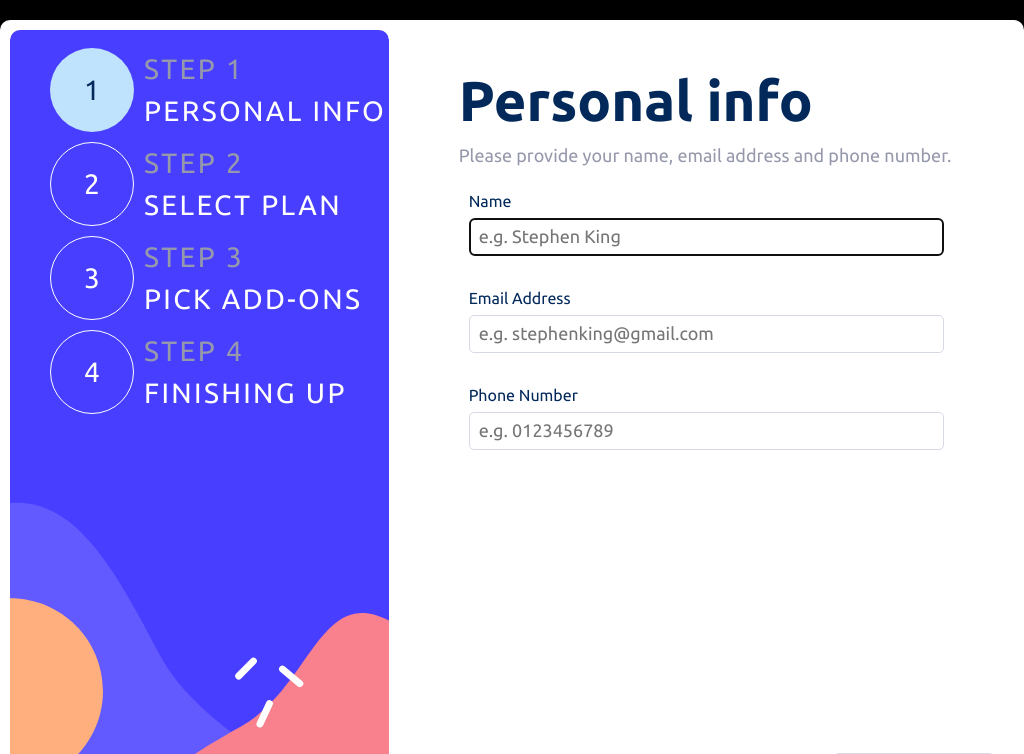
Test: page container suite › if fwd button is enabled and we click we go to select plan step
Type "Stephen King" into the field with placeholder "e.g. Stephen King" at (706, 237), box x1=469 y1=218 x2=944 y2=256
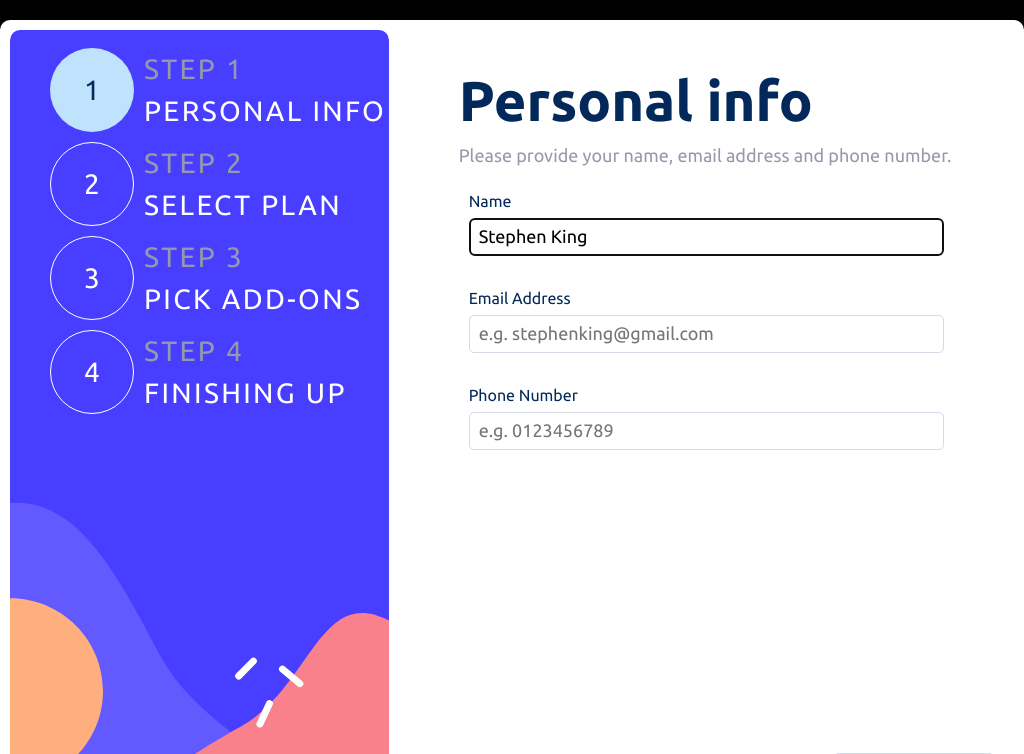
Type "stephenking@gmail.com" into the field with placeholder "e.g. stephenking@gmail.com" at (706, 334), box x1=469 y1=315 x2=944 y2=353
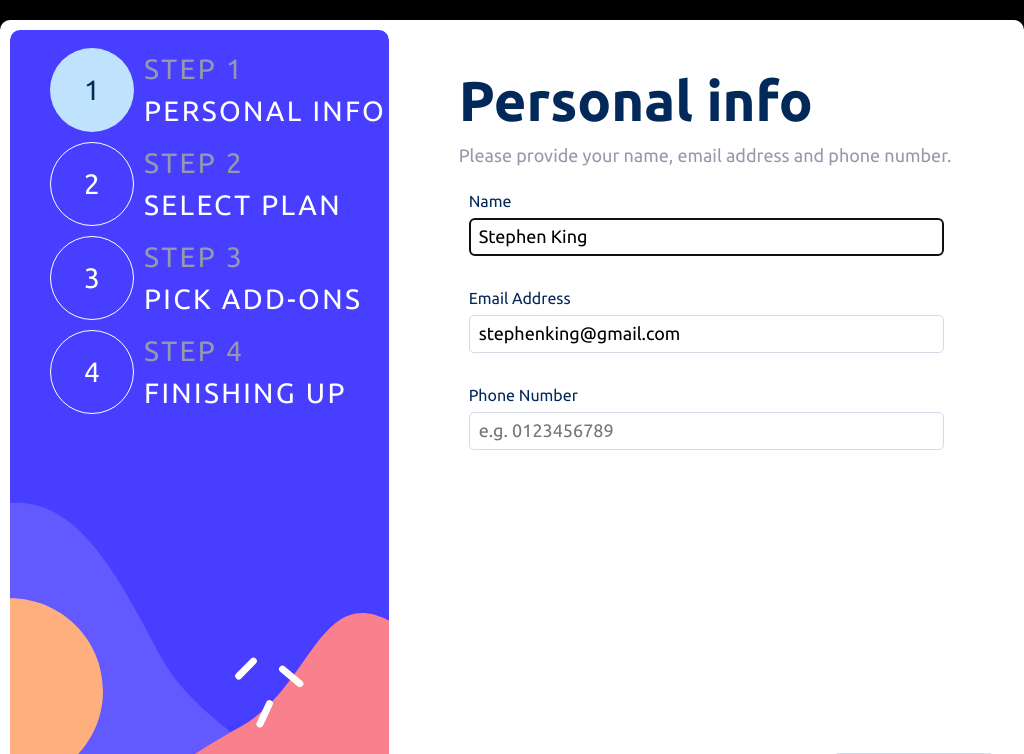
Type "0123456789" into the field with placeholder "e.g. 0123456789" at (706, 431), box x1=469 y1=412 x2=944 y2=450
(page scrolled)
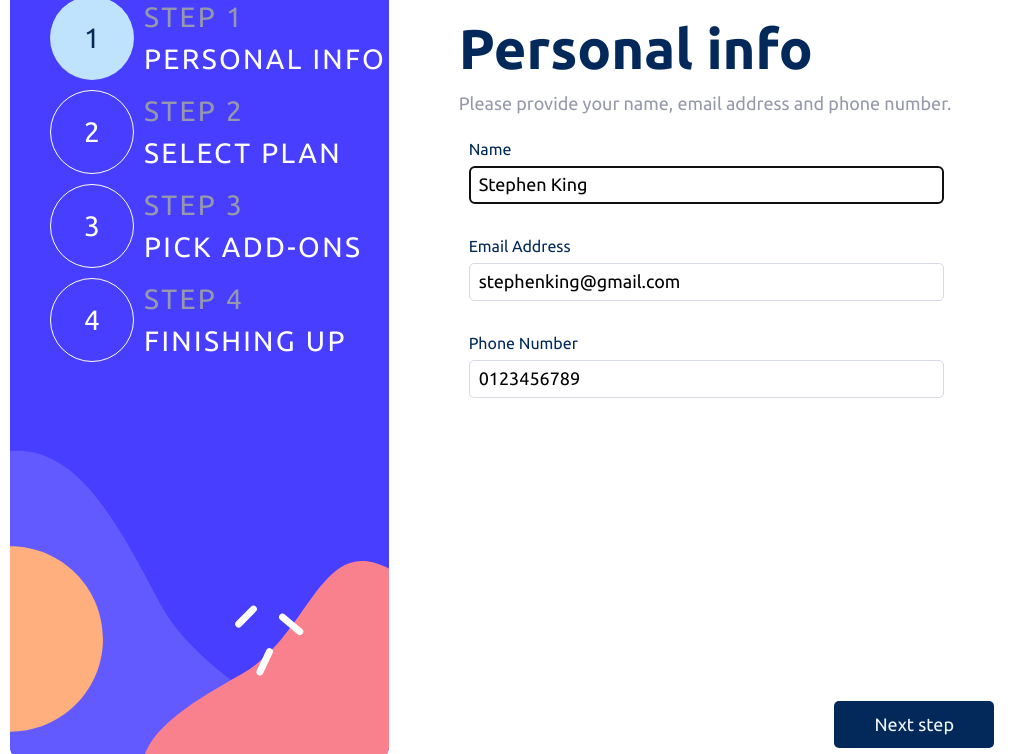
Click the button "Next step" at (914, 724), box x1=834 y1=701 x2=994 y2=748
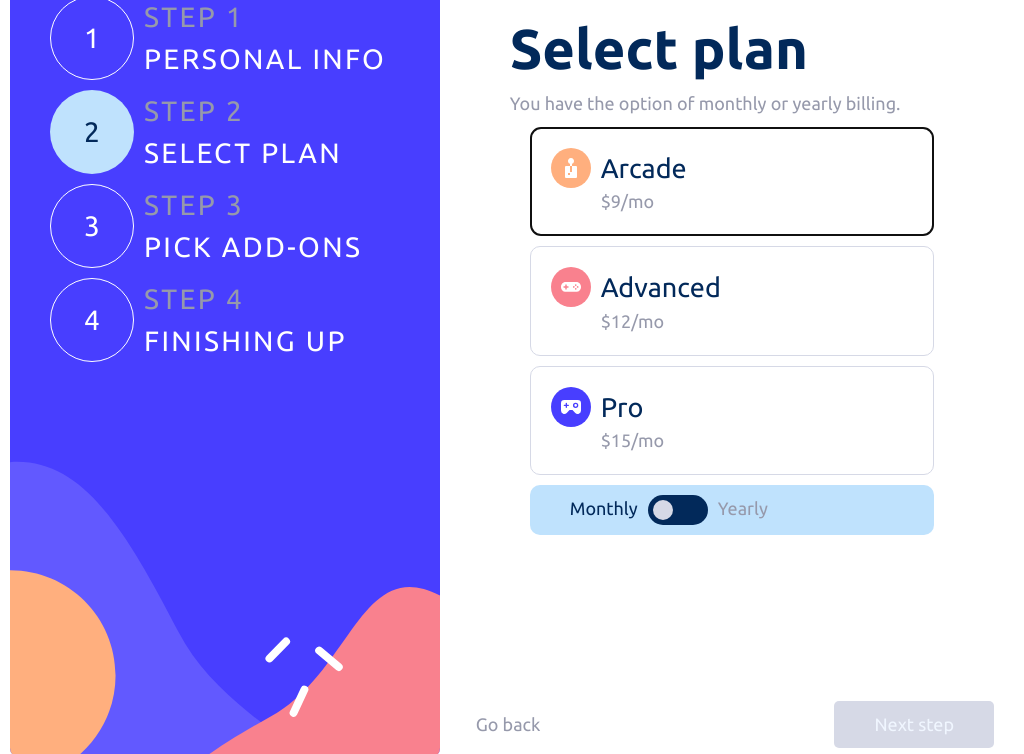
Expected: the field with placeholder "e.g. Stephen King" is not shown
Result: the heading "arcade" is shown at x1=601 y1=148 x2=687 y2=188
